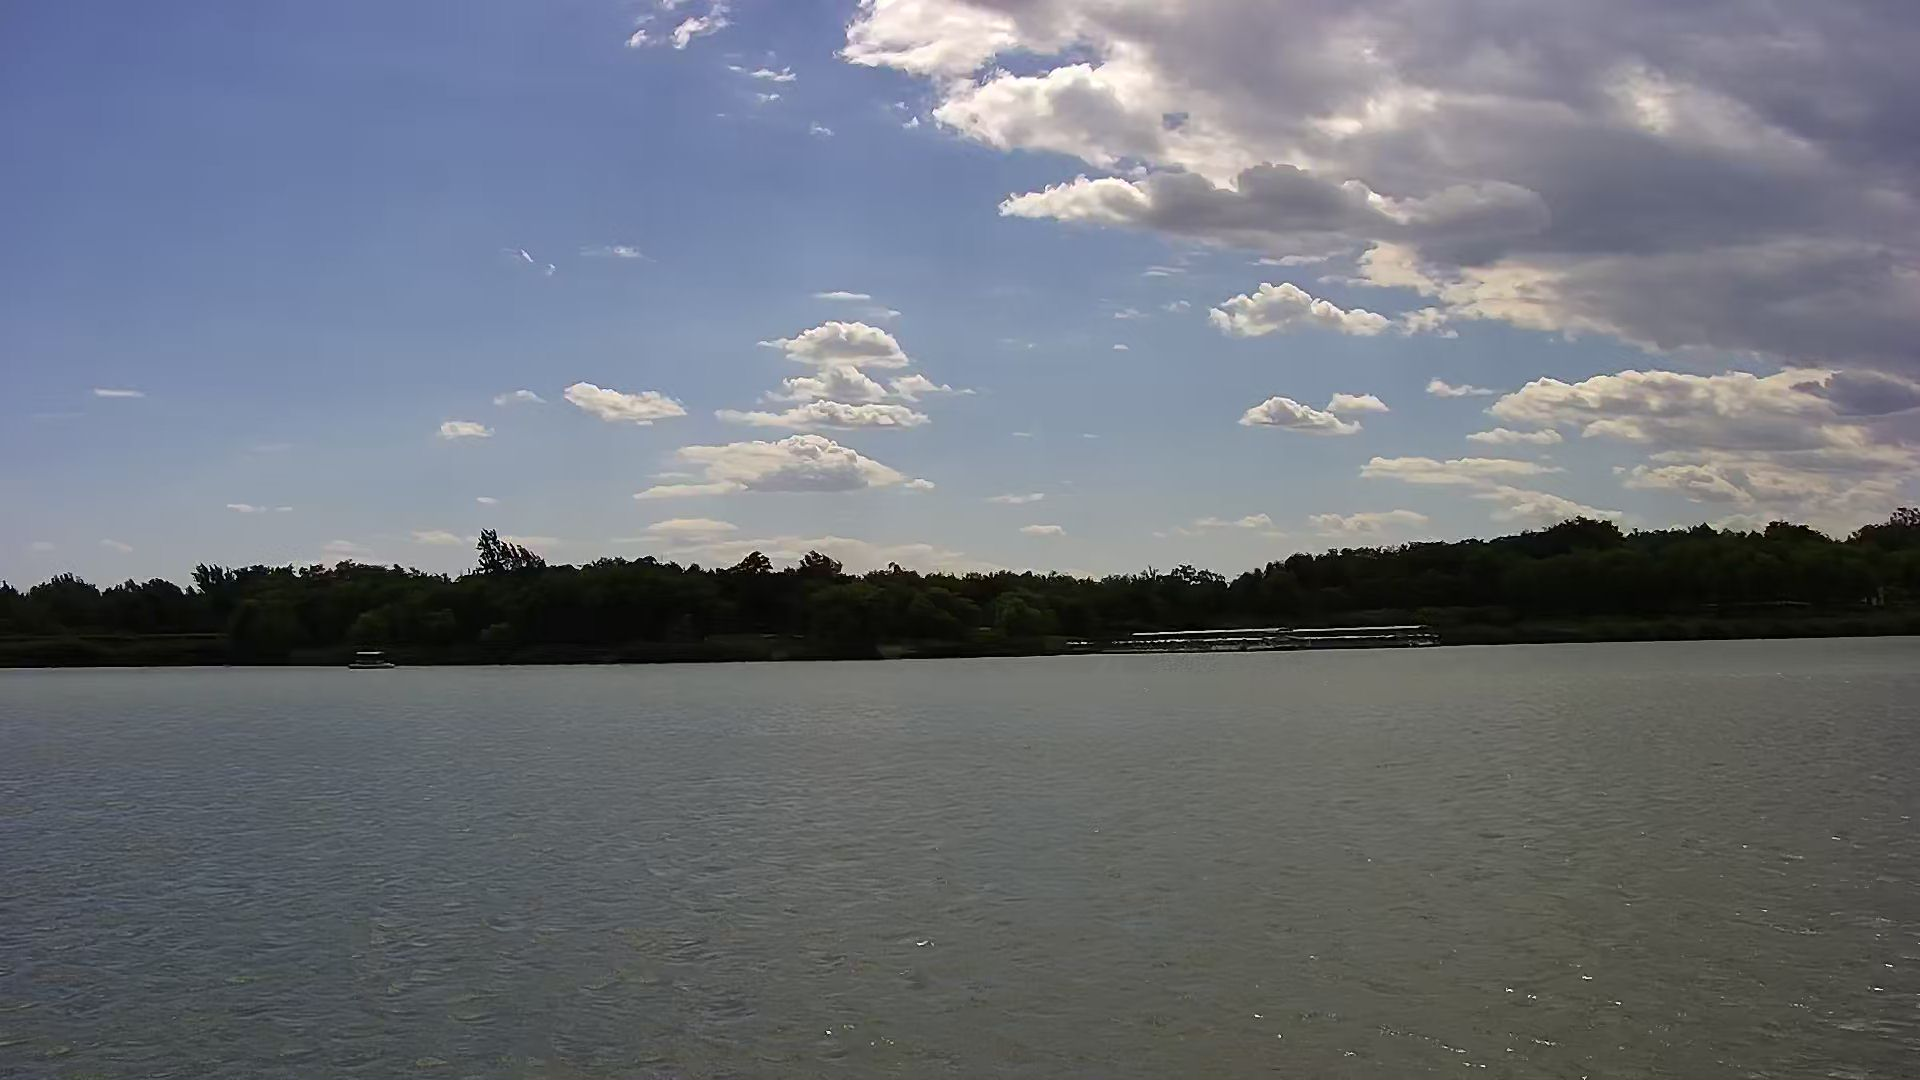boat: (345, 642, 400, 673)
harbor: (1077, 615, 1448, 654)
